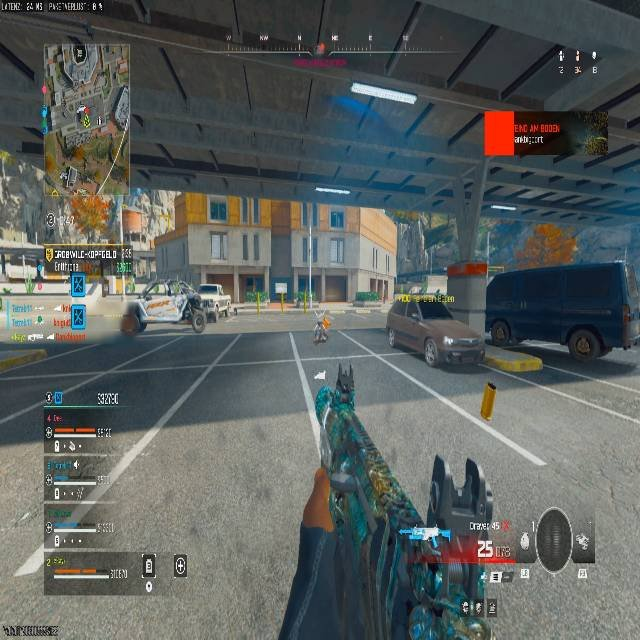player: (311, 310, 331, 343)
